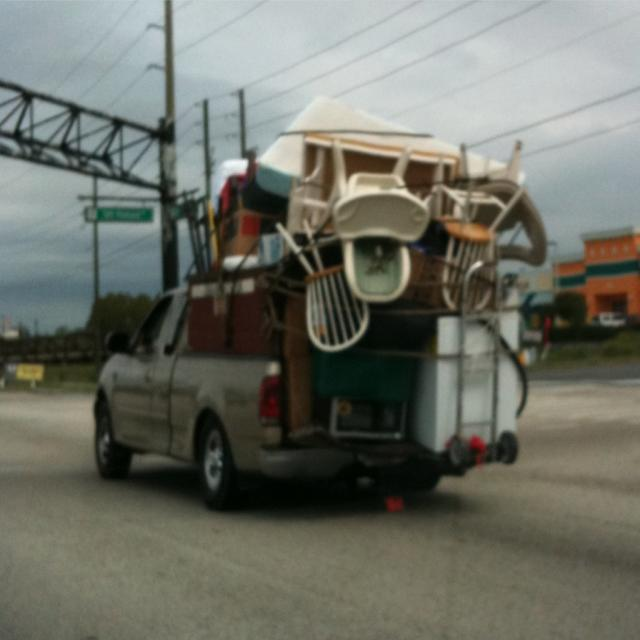overloaded_truck: (89, 89, 555, 509)
